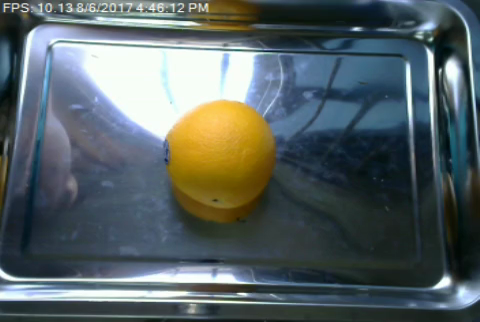Orange: (162, 98, 276, 210)
